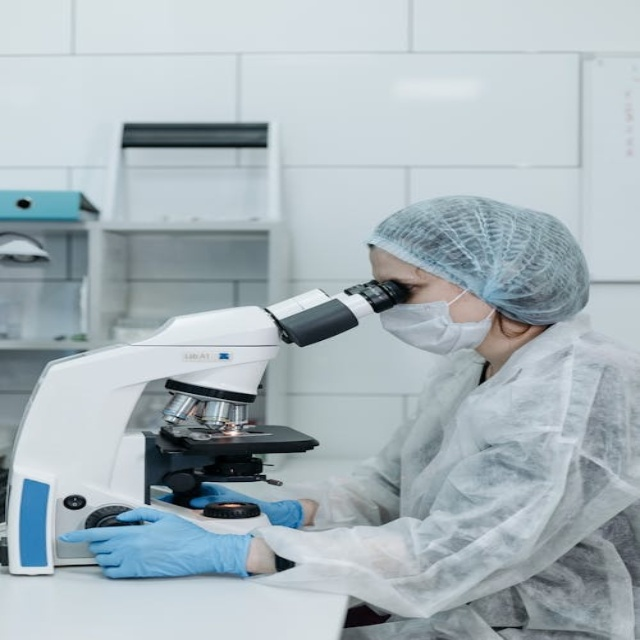Guantes: (61, 506, 266, 580), (177, 482, 305, 527)
Mascara: (377, 284, 497, 356)
